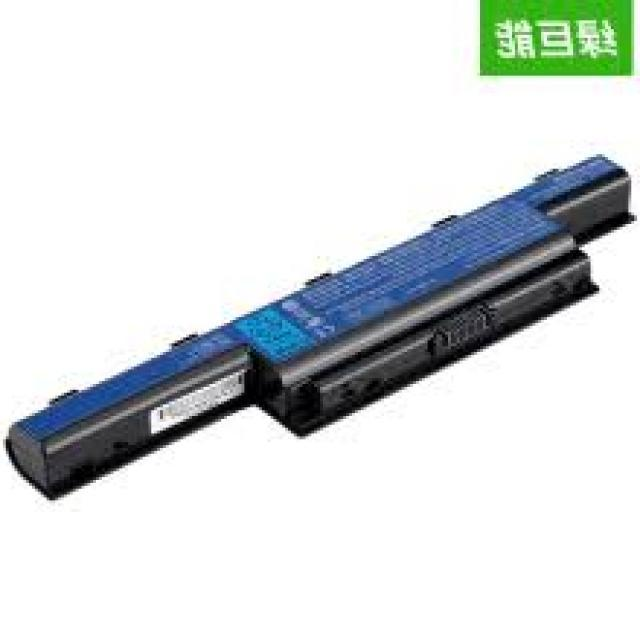battery: (5, 137, 636, 500)
